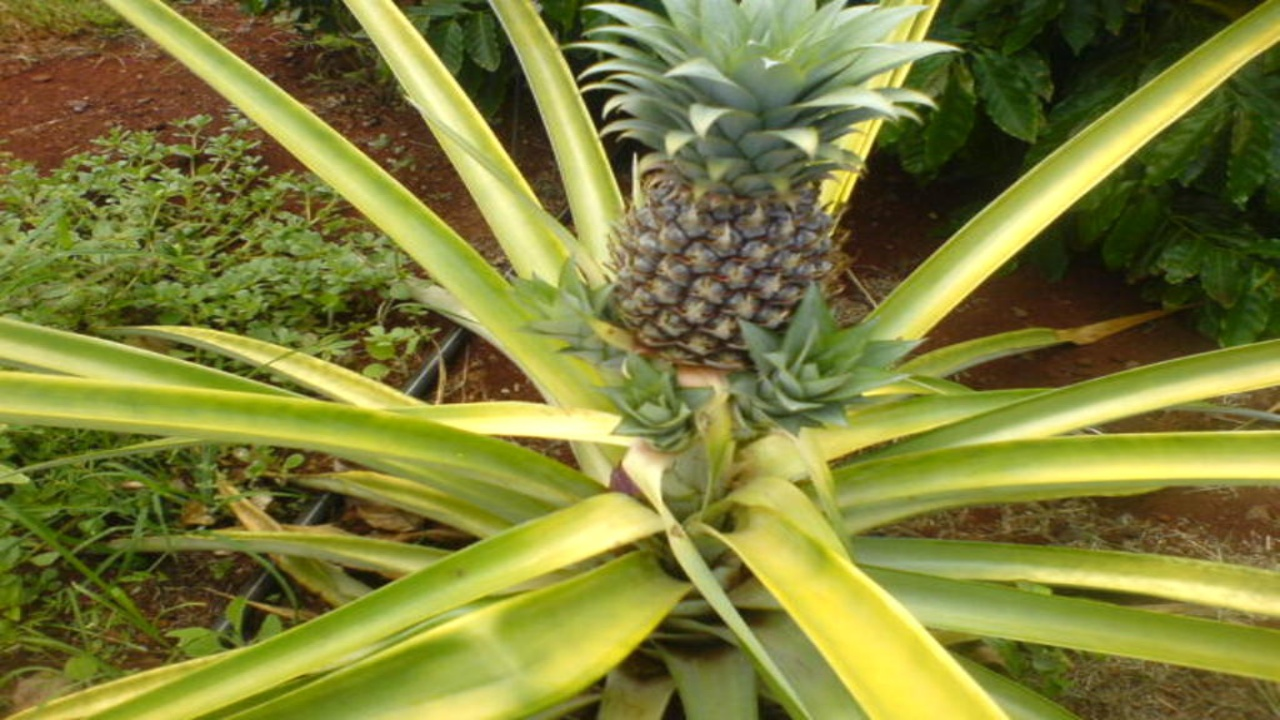pineapple: (583, 28, 856, 370)
